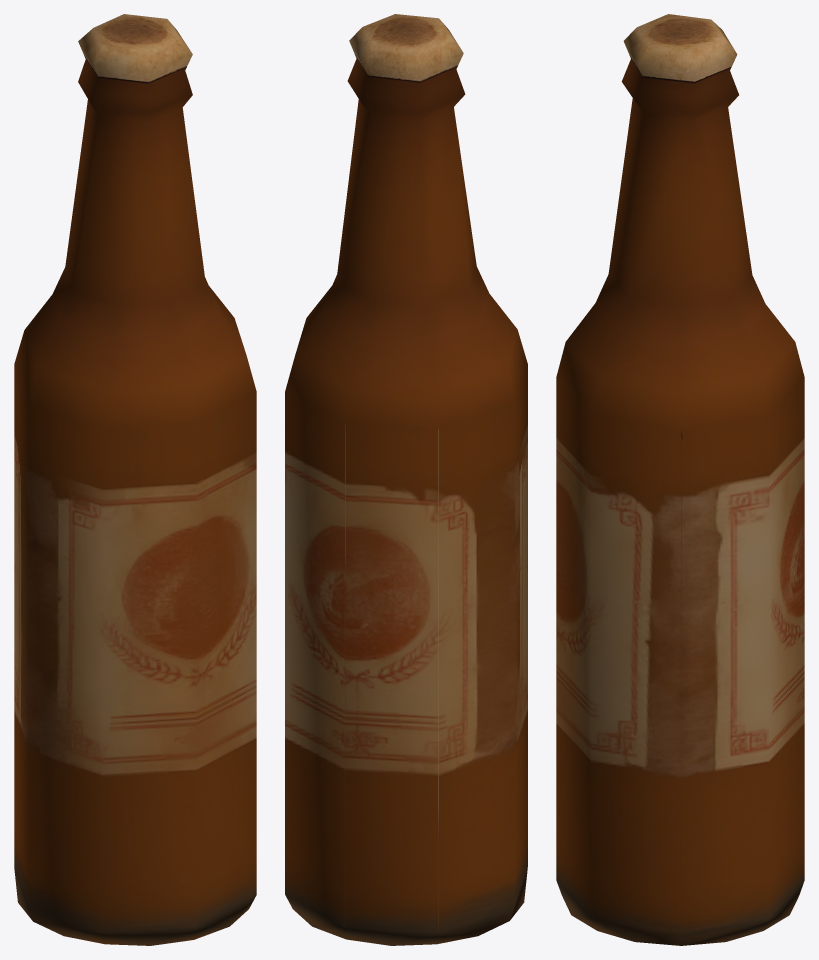
File: drink-bottle.glb
The picture shows the model from 3 angles, left to right: view 1: azimuth 30°, elevation 25°; view 2: azimuth 150°, elevation 25°; view 3: azimuth 270°, elevation 25°; orthographic projection.
Visible parts, largest first — view 1: tripo_node_9596a42d-93f5-4b82-8252-456ec367dec1; view 2: tripo_node_9596a42d-93f5-4b82-8252-456ec367dec1; view 3: tripo_node_9596a42d-93f5-4b82-8252-456ec367dec1.
Part boxes in pixels (bbox=[...]): tripo_node_9596a42d-93f5-4b82-8252-456ec367dec1: bbox=[14, 14, 256, 945]; tripo_node_9596a42d-93f5-4b82-8252-456ec367dec1: bbox=[285, 14, 527, 945]; tripo_node_9596a42d-93f5-4b82-8252-456ec367dec1: bbox=[556, 14, 804, 945].
Size of the model in its own units: 0.2598 by 0.998 by 0.2598.
Materials: 1 (1 with a texture image).
